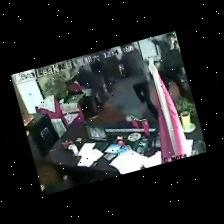person: (148, 33, 185, 96)
